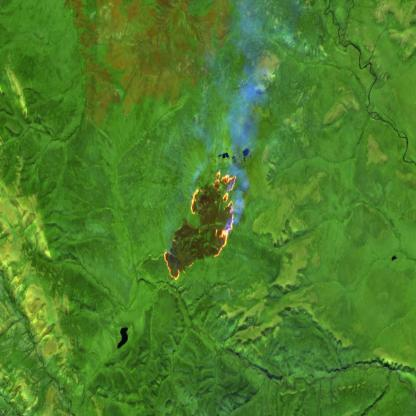fire: (163, 168, 240, 286)
